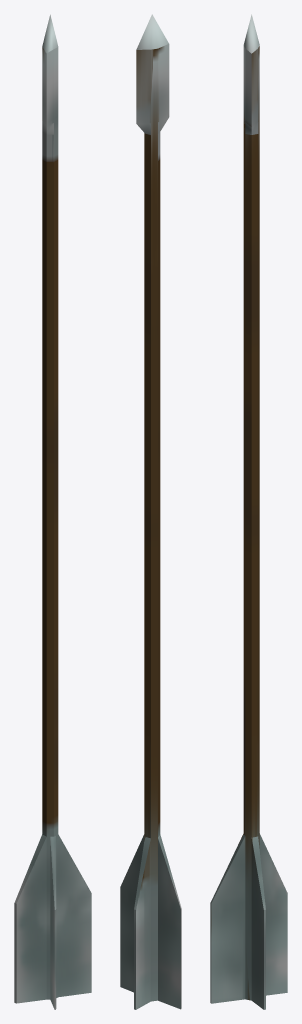
Rendered from flecha.fbx.
3 views of the same model, side by side, from view 1: azimuth 90°, elevation 25°; view 2: azimuth 210°, elevation 25°; view 3: azimuth 270°, elevation 25° (orthographic).
Parts seen in each view (by area): view 1: pCylinder3; view 2: pCylinder3; view 3: pCylinder3.
Part boxes in pixels (x1,y1,x2,y2): pCylinder3: [14, 14, 91, 1009]; pCylinder3: [120, 14, 181, 1009]; pCylinder3: [210, 14, 287, 1009].
Bounding box in the file's own units: 1.15 × 21.69 × 1.54.
